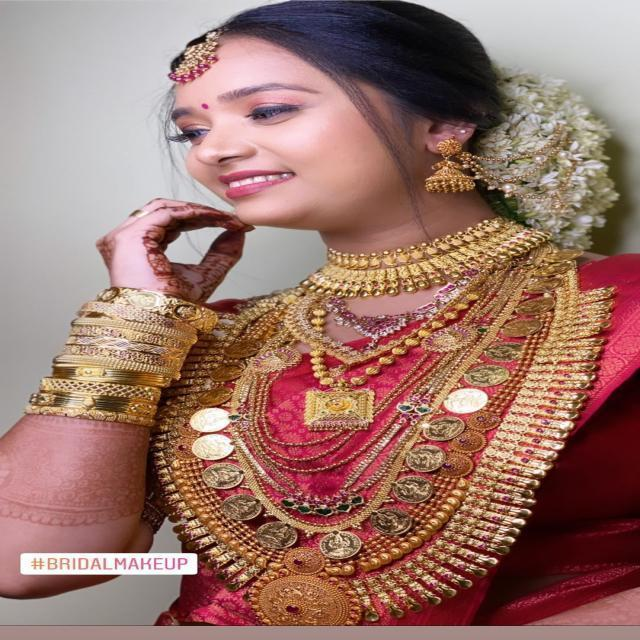Earring: (420, 130, 506, 202)
